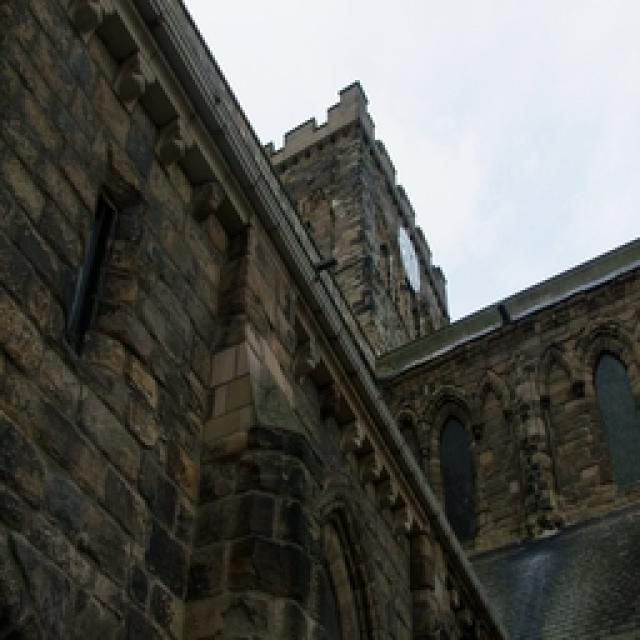Abbey: (11, 11, 640, 635)
